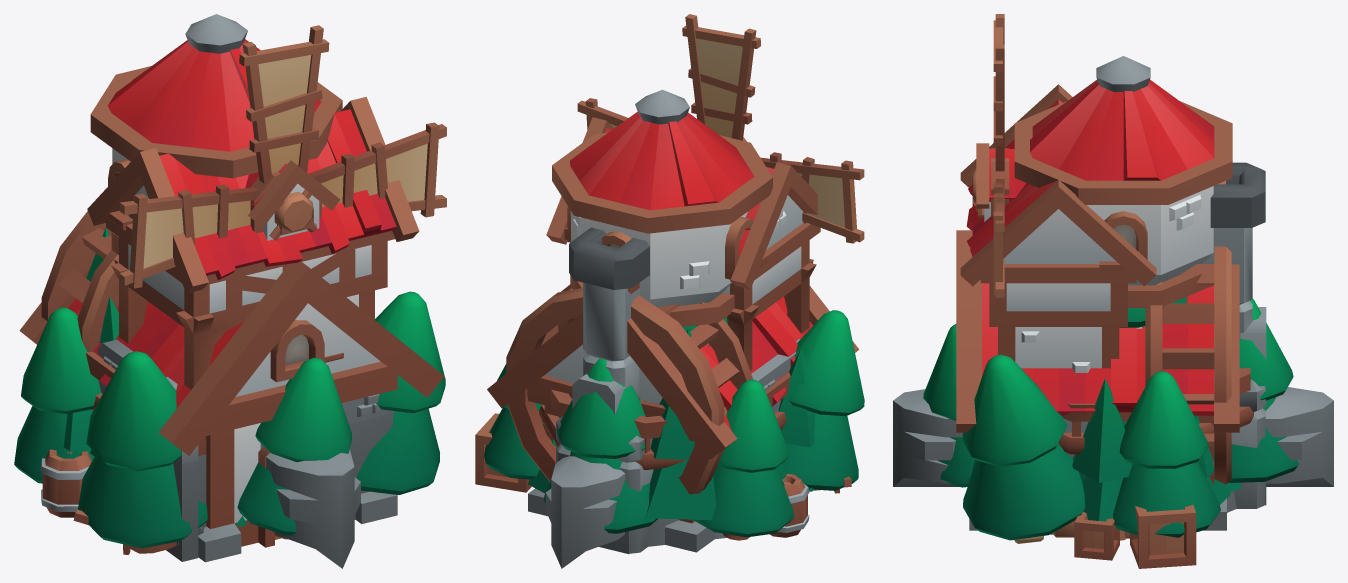
File: meadow-diorama.glb
3 renders of one model, left to right at view 1: azimuth 30°, elevation 25°; view 2: azimuth 150°, elevation 25°; view 3: azimuth 270°, elevation 25°, orthographic. The views are drawn at different scales.
Visible parts, largest first — view 1: trees_B_large, building_watermill_red, building_home_A_red, building_windmill_top_fan_red, building_windmill_top_red, fence_stone_straight, building_watermill_wheel_red, building_windmill_red, trees_A_medium, trees_A_small; view 2: building_windmill_top_red, trees_B_large, building_home_A_red, building_watermill_red, building_watermill_wheel_red, building_windmill_top_fan_red, trees_A_medium, fence_stone_straight, building_windmill_red; view 3: trees_B_large, building_windmill_top_red, building_watermill_red, building_home_A_red, fence_stone_straight, building_watermill_wheel_red, building_windmill_red, trees_A_medium, building_windmill_top_fan_red.
Boxes of the visible parts, left/top/right/bottom form: trees_B_large: left=14, top=291, right=445, bottom=548; building_watermill_red: left=87, top=96, right=419, bottom=561; building_home_A_red: left=19, top=231, right=444, bottom=562; building_windmill_top_fan_red: left=119, top=25, right=446, bottom=288; building_windmill_top_red: left=90, top=14, right=342, bottom=254; fence_stone_straight: left=266, top=449, right=360, bottom=568; building_watermill_wheel_red: left=41, top=211, right=118, bottom=352; building_windmill_red: left=41, top=351, right=204, bottom=554; trees_A_medium: left=63, top=227, right=246, bottom=526; trees_A_small: left=99, top=296, right=118, bottom=343; building_windmill_top_red: left=552, top=89, right=772, bottom=326; trees_B_large: left=484, top=310, right=864, bottom=540; building_home_A_red: left=487, top=227, right=858, bottom=553; building_watermill_red: left=546, top=117, right=820, bottom=553; building_watermill_wheel_red: left=506, top=284, right=752, bottom=494; building_windmill_top_fan_red: left=577, top=14, right=864, bottom=243; trees_A_medium: left=528, top=328, right=814, bottom=520; fence_stone_straight: left=545, top=456, right=625, bottom=568; building_windmill_red: left=475, top=372, right=851, bottom=546; trees_B_large: left=923, top=299, right=1298, bottom=540; building_windmill_top_red: left=1014, top=56, right=1232, bottom=307; building_watermill_red: left=960, top=84, right=1266, bottom=534; building_home_A_red: left=956, top=162, right=1265, bottom=530; fence_stone_straight: left=893, top=387, right=1333, bottom=486; building_watermill_wheel_red: left=1145, top=246, right=1231, bottom=484; building_windmill_red: left=1014, top=326, right=1253, bottom=568; trees_A_medium: left=968, top=378, right=1230, bottom=540; building_windmill_top_fan_red: left=973, top=14, right=1009, bottom=297.
Size of the model in its own units: 0.3398 by 0.44 by 0.3863.
3 materials, 1 textured.
